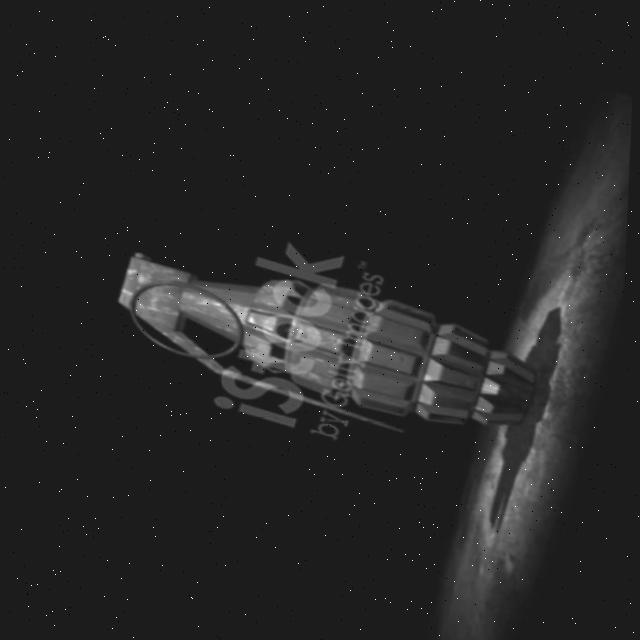grenade: (99, 210, 550, 466)
